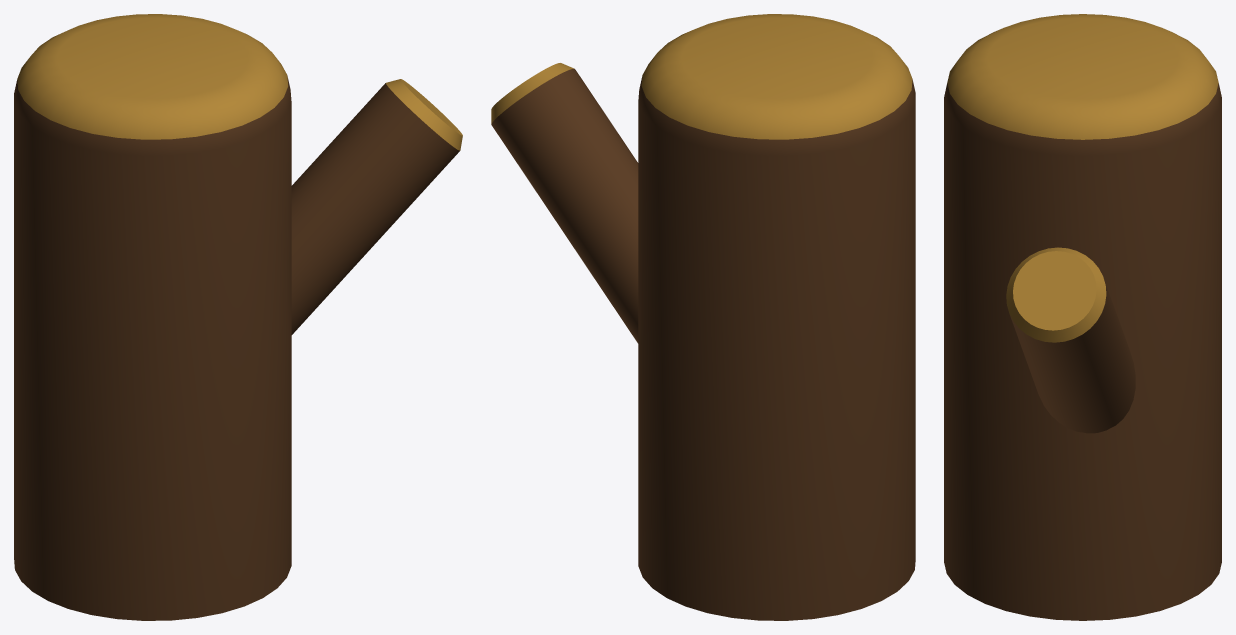
File: Stump(T).fbx
The picture shows the model from 3 angles, left to right: view 1: azimuth 30°, elevation 25°; view 2: azimuth 150°, elevation 25°; view 3: azimuth 270°, elevation 25°; orthographic projection.
Parts seen in each view (by area): view 1: Stump; view 2: Stump; view 3: Stump.
Part boxes in pixels (x1,y1,x2,y2): Stump: (14, 14, 462, 620); Stump: (491, 14, 915, 620); Stump: (944, 14, 1221, 620).
Size of the model in its own units: 341 by 400 by 200.
